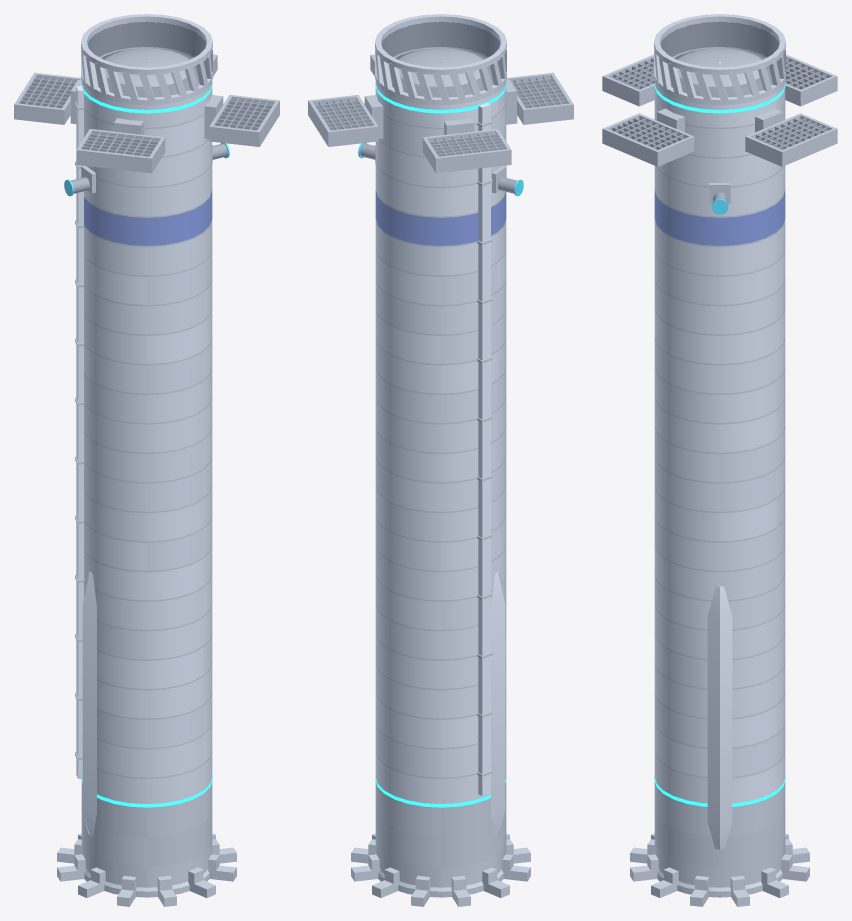
The model's file is booster_r2_bf5407b8.glb.
3 views of the same model, side by side, from view 1: azimuth 30°, elevation 25°; view 2: azimuth 150°, elevation 25°; view 3: azimuth 270°, elevation 25° (orthographic).
Parts seen in each view (by area): view 1: Body, GridFin_3, GridFin_4, GridFin_2, Catch_Pin_NX; view 2: Body, GridFin_2, GridFin_1, GridFin_3, Catch_Pin_NX; view 3: Body, GridFin_1, GridFin_4, GridFin_2, GridFin_3, Catch_Pin_PX.
Boxes of the visible parts, bbox=[...] form: Body: bbox=[57, 14, 236, 906]; GridFin_3: bbox=[76, 118, 165, 173]; GridFin_4: bbox=[204, 94, 279, 146]; GridFin_2: bbox=[14, 72, 81, 124]; Catch_Pin_NX: bbox=[64, 166, 95, 196]; Body: bbox=[351, 14, 530, 906]; GridFin_2: bbox=[422, 118, 511, 173]; GridFin_1: bbox=[308, 94, 383, 146]; GridFin_3: bbox=[506, 72, 573, 124]; Catch_Pin_NX: bbox=[492, 166, 523, 196]; Body: bbox=[630, 14, 809, 906]; GridFin_1: bbox=[745, 108, 837, 166]; GridFin_4: bbox=[602, 108, 694, 166]; GridFin_2: bbox=[785, 54, 837, 106]; GridFin_3: bbox=[602, 54, 654, 106]; Catch_Pin_PX: bbox=[709, 183, 730, 214].
Bounding box in the file's own units: 14.42 × 56 × 14.42.
